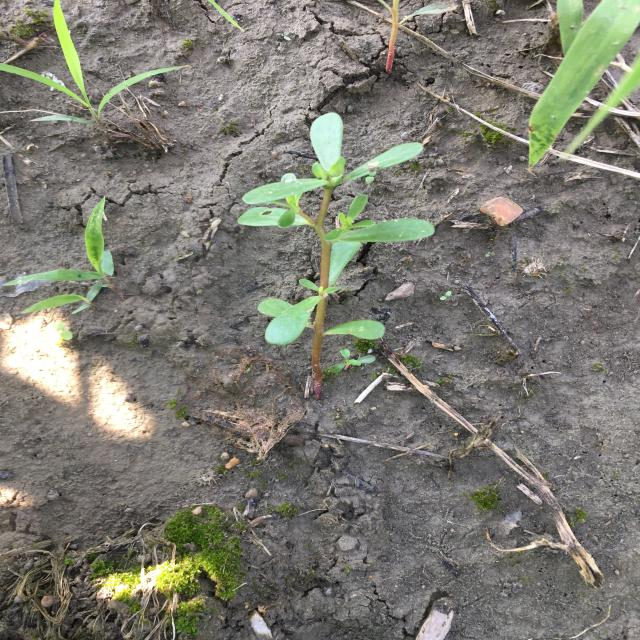Purslane: (235, 110, 437, 405)
